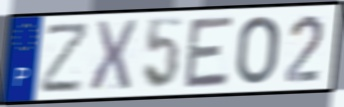2: (283, 12, 327, 85)
5: (143, 15, 184, 92)
E: (182, 14, 236, 91)
O: (234, 14, 282, 87)
X: (87, 18, 140, 95)
Z: (39, 20, 92, 96)
